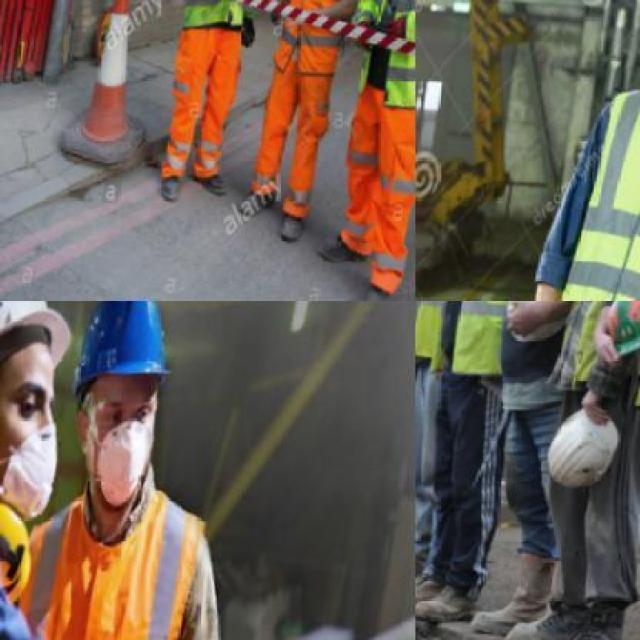hat: (0, 300, 82, 472), (70, 300, 186, 398), (546, 404, 623, 498), (502, 300, 580, 352), (602, 300, 638, 368)
